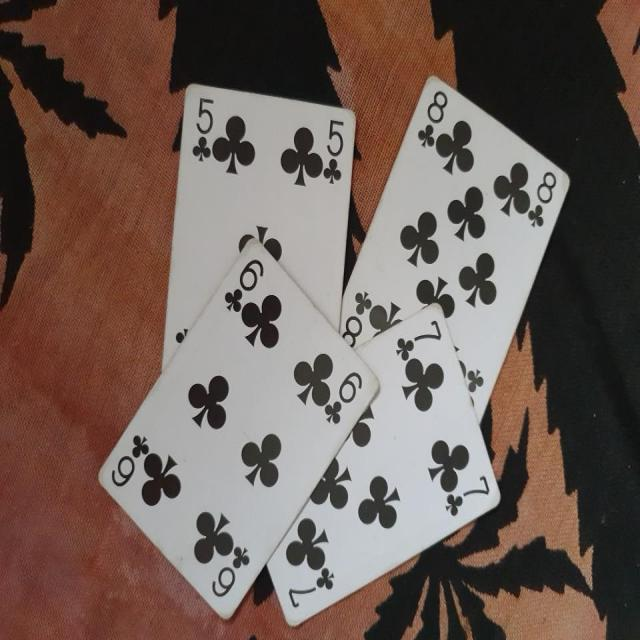5 of clubs: (158, 79, 358, 370)
6 of clubs: (98, 239, 380, 620)
7 of clubs: (262, 300, 501, 626)
8 of clubs: (341, 76, 568, 430)
